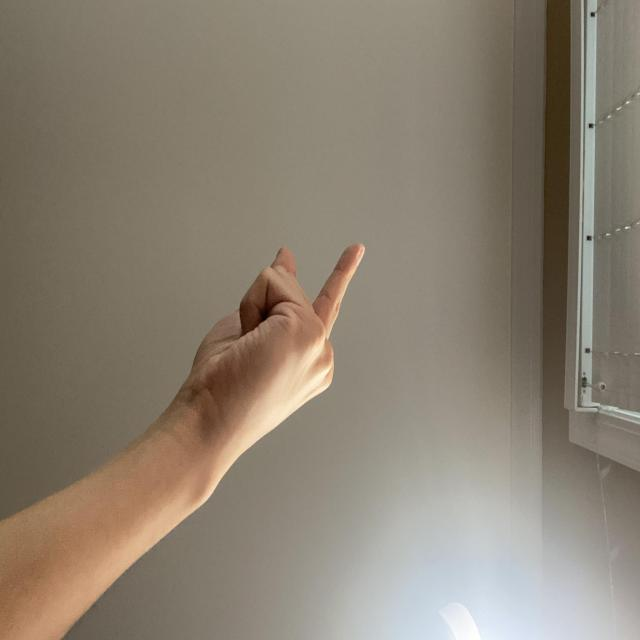G: (337, 358, 523, 617)
